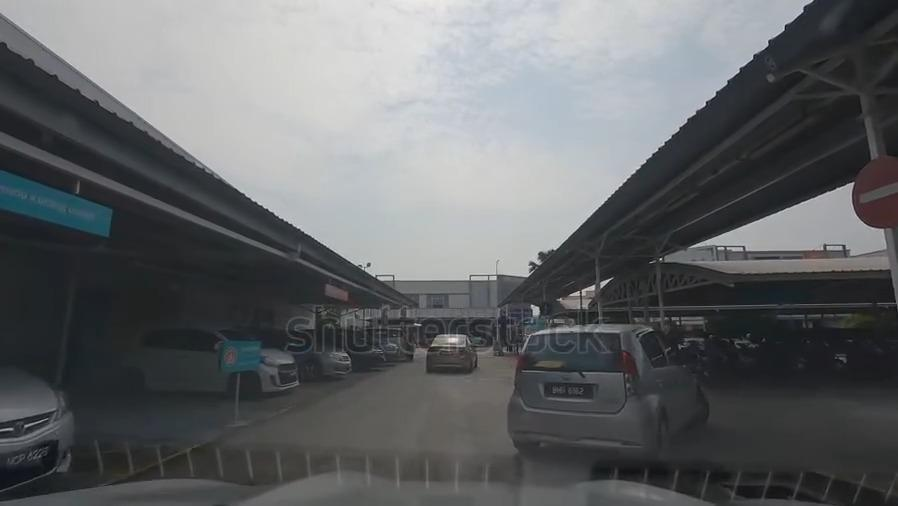car: (514, 327, 706, 454), (117, 329, 295, 395), (0, 354, 77, 481), (276, 330, 349, 378), (425, 331, 478, 373), (341, 333, 381, 371), (377, 335, 399, 362)
manhole: (712, 476, 816, 505)
person: (401, 330, 418, 361)
wheel: (653, 413, 674, 467), (228, 369, 260, 399), (694, 382, 712, 431), (118, 368, 145, 395), (305, 360, 321, 380)
